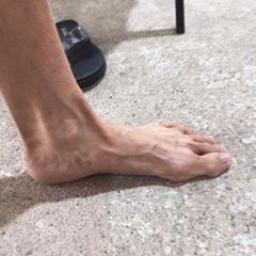Medial View -Left Foot-: (4, 88, 243, 200)
